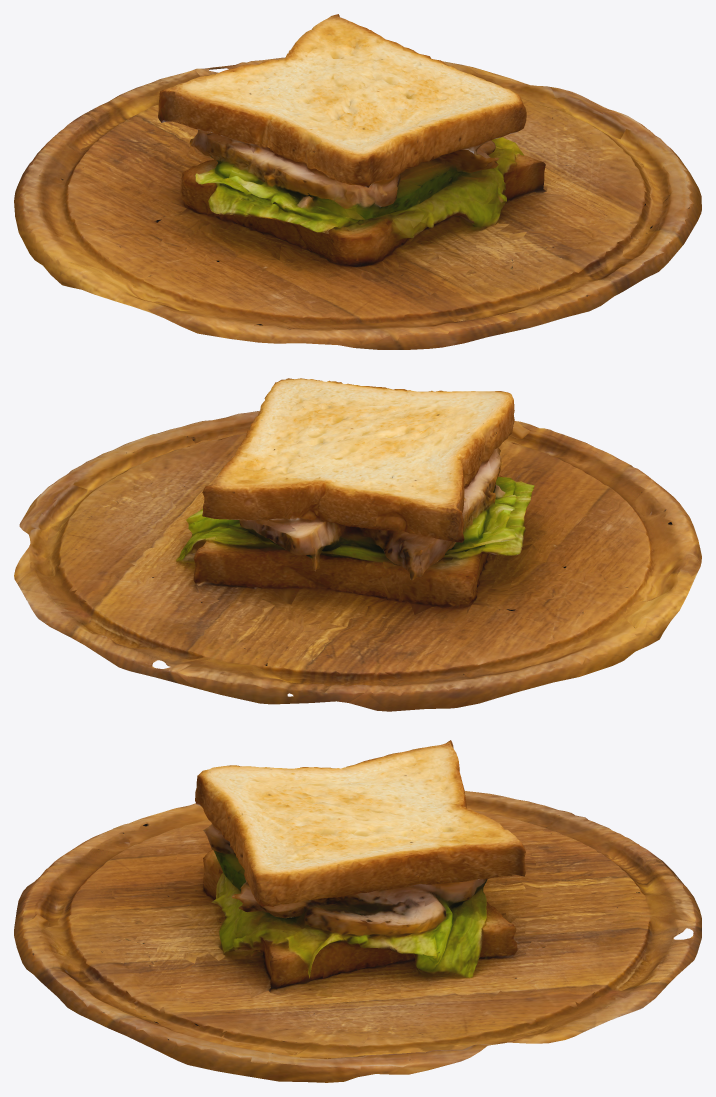
File: Chicken Tikka Sandwich.glb
3 renders of one model, top to bottom at view 1: azimuth 30°, elevation 25°; view 2: azimuth 150°, elevation 25°; view 3: azimuth 270°, elevation 25°, orthographic. The views are drawn at different scales.
Visible parts, largest first — view 1: Chicken Tikka Sandwich; view 2: Chicken Tikka Sandwich; view 3: Chicken Tikka Sandwich.
Boxes of the visible parts, <box> form: Chicken Tikka Sandwich: <box>14,14,701,349</box>; Chicken Tikka Sandwich: <box>14,378,701,711</box>; Chicken Tikka Sandwich: <box>14,740,701,1082</box>.
Bounding box in the file's own units: 0.317 × 0.0678 × 0.3179.
1 material, 1 textured.
